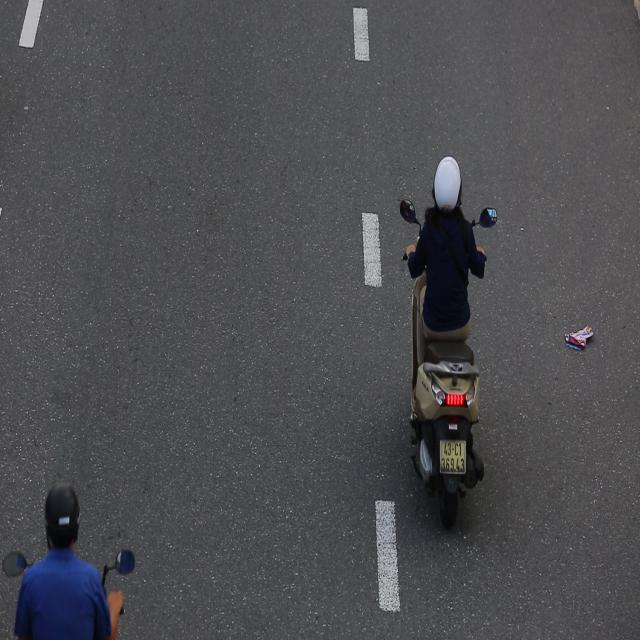motorbike: (395, 147, 495, 538)
